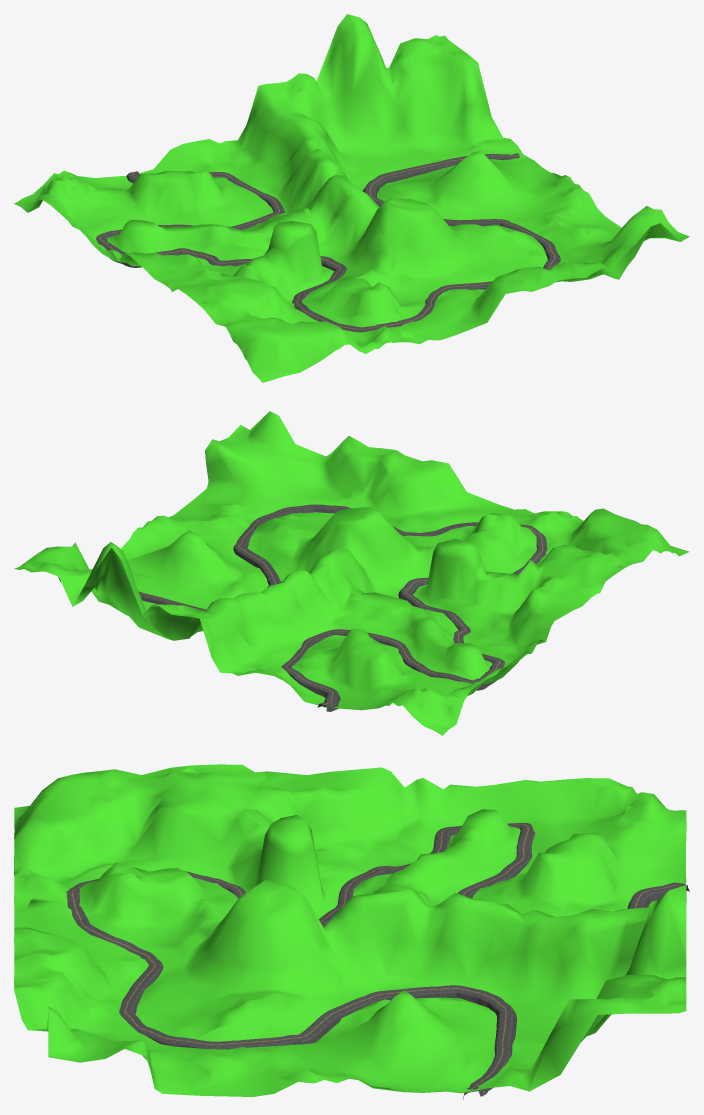
File: RoadPaysagetest.glb
3 views of the same model, one above another, from view 1: azimuth 30°, elevation 25°; view 2: azimuth 150°, elevation 25°; view 3: azimuth 270°, elevation 25° (orthographic). The views are drawn at different scales.
Parts seen in each view (by area): view 1: Landscape-col, road-col; view 2: Landscape-col, road-col; view 3: Landscape-col, road-col.
Part boxes in pixels (bbox=[...]): Landscape-col: bbox=[14, 14, 689, 382]; road-col: bbox=[96, 153, 560, 332]; Landscape-col: bbox=[14, 411, 689, 735]; road-col: bbox=[138, 504, 547, 711]; Landscape-col: bbox=[14, 764, 686, 1096]; road-col: bbox=[66, 823, 689, 1099].
Size of the model in its own units: 61.21 by 15.19 by 60.36.
Materials: 2 (1 with a texture image).
